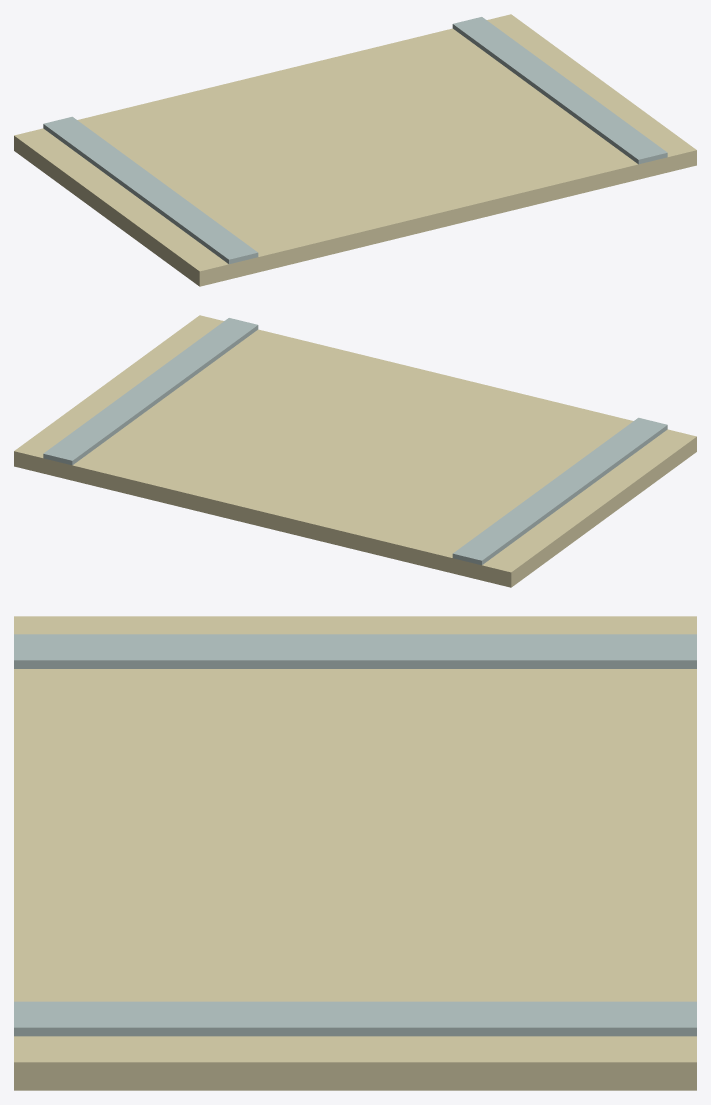
The picture shows the model from 3 angles, top to bottom: view 1: azimuth 30°, elevation 25°; view 2: azimuth 150°, elevation 25°; view 3: azimuth 270°, elevation 25°; orthographic projection. The views are drawn at different scales.
Parts seen in each view (by area): view 1: mat; view 2: mat; view 3: mat.
Boxes of the visible parts, left/top/right/bottom form: mat: left=14, top=14, right=696, bottom=286; mat: left=14, top=315, right=696, bottom=587; mat: left=14, top=616, right=696, bottom=1090.
Bounding box in the file's own units: 2.12 × 0.0812 × 1.38.
